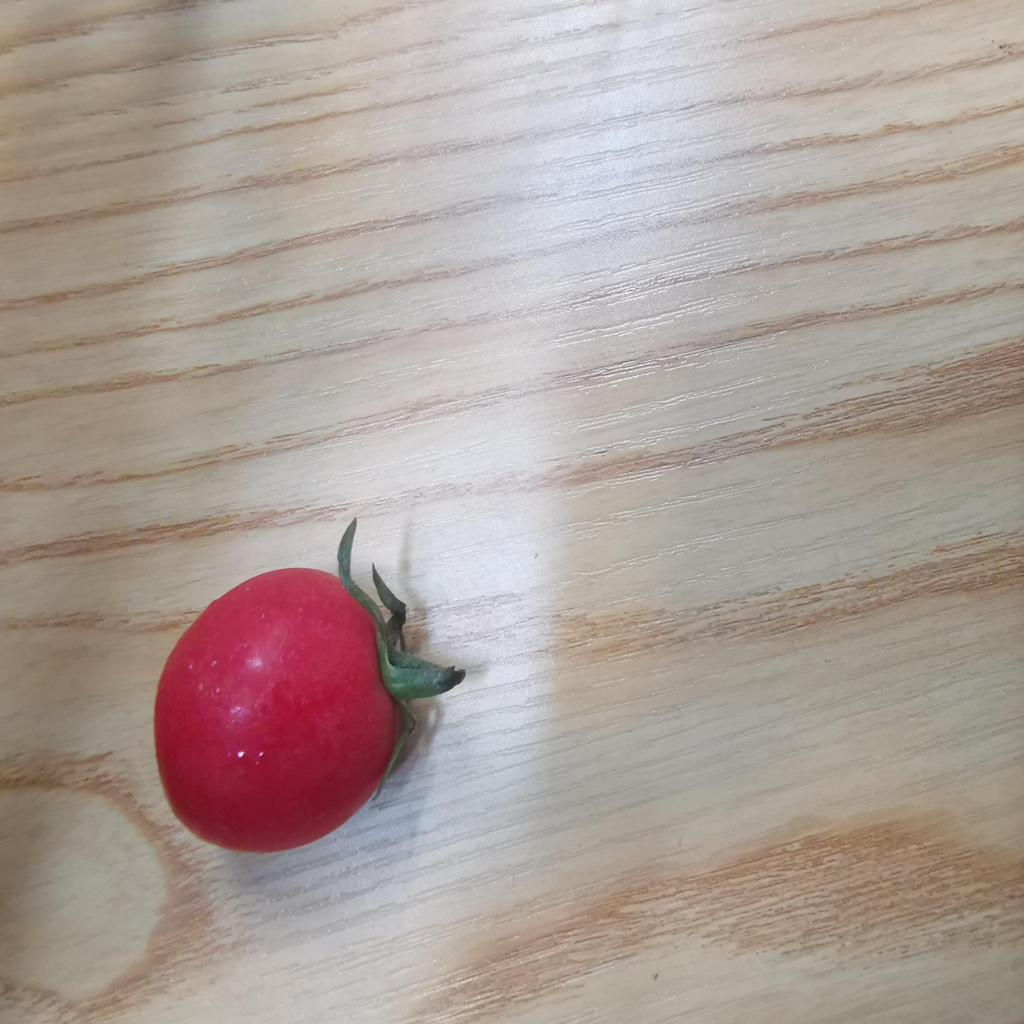tomato: (163, 541, 446, 852)
